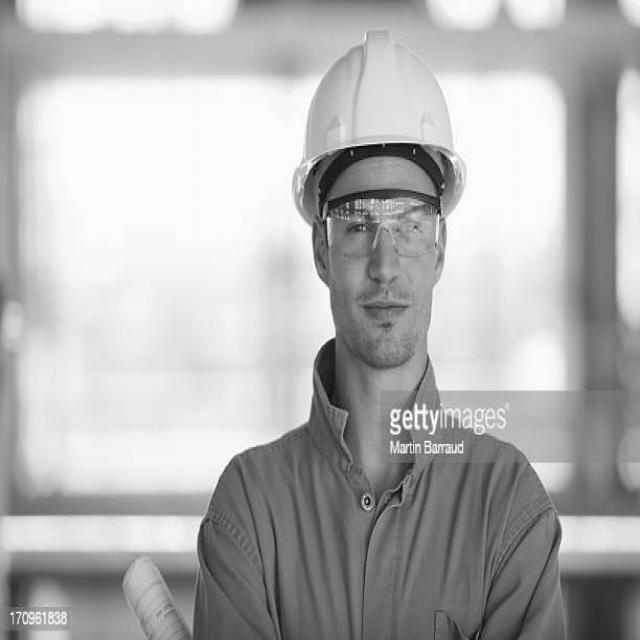safety_helmet: (292, 28, 467, 226)
